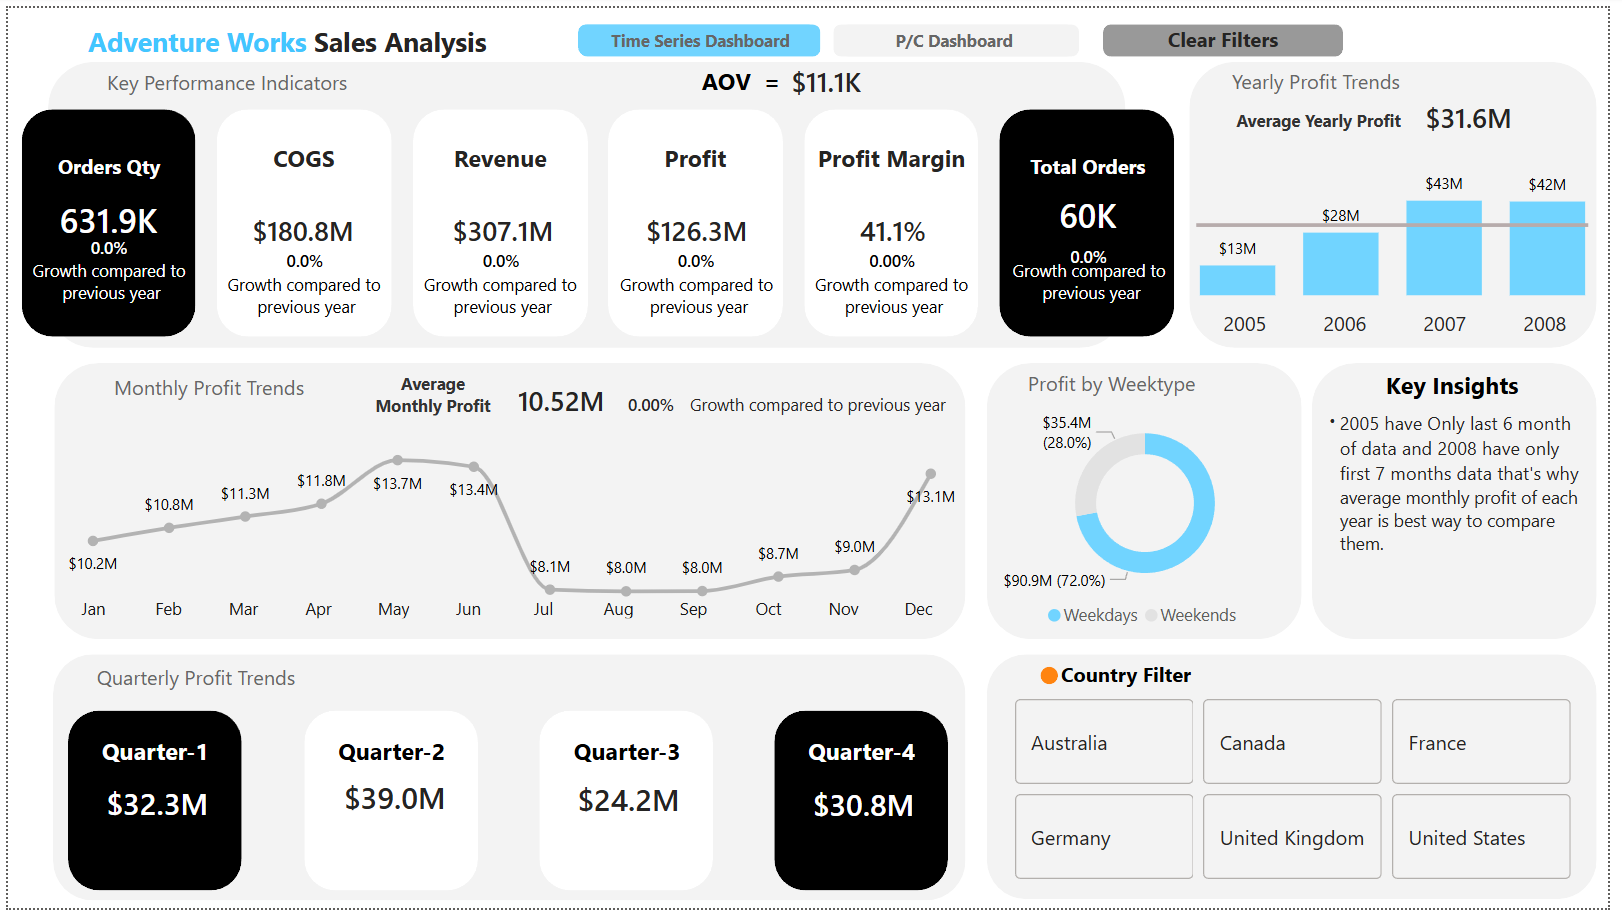

Layout of this report page (visuals, bound fields, positions):
{"tool":"powerbi","page":{"name":"Time Series Dashboard","canvas":[1280,720],"ordinal":0},"visuals":[{"type":"shape","box":[783.3,516.7,487.8,196.7],"z":0},{"type":"shape","box":[31.9,43.1,861.7,229.2],"z":1000},{"type":"shape","box":[10.6,81,139.9,182],"z":2000},{"type":"shape","box":[36,517,730,197],"z":3000},{"type":"shape","box":[36.7,284.4,728.9,221],"z":4000},{"type":"shape","box":[48,562,139,144],"z":5000},{"type":"shape","box":[236.7,562,139,144],"z":6000},{"type":"shape","box":[425.3,562,139,144],"z":7000},{"type":"shape","box":[613,562,139,144],"z":8000},{"type":"shape","box":[455.6,13.3,191,25],"z":9000},{"type":"textbox","box":[47.8,576.7,138.9,38.9],"z":10000},{"type":"textbox","box":[236.7,576.7,138.9,48.9],"z":11000},{"type":"textbox","box":[425.6,576.7,138.9,48.9],"z":12000},{"type":"textbox","box":[613.3,576.7,138.9,38.9],"z":13000},{"type":"textbox","box":[455.6,8.9,191.1,36.7],"z":14000},{"type":"cardVisual","fields":{"Data":["All Measures.Quarter 1 Profit"]},"box":[41.7,605.6,154,57.8],"z":15000},{"type":"cardVisual","fields":{"Data":["All Measures.Quarter 2 Profit"]},"box":[232.2,601,154,57.8],"z":16000},{"type":"cardVisual","fields":{"Data":["All Measures.Quarter 3 Profit"]},"box":[419.2,601.9,154,57.8],"z":17000},{"type":"cardVisual","fields":{"Data":["All Measures.Quarter 4 Profit"]},"box":[606.7,606.6,154,57.8],"z":18000},{"type":"shape","box":[1043.3,284,227.8,221.1],"z":19000},{"type":"shape","box":[945,43,326,229],"z":20000},{"type":"shape","box":[783,284,252,221],"z":21000},{"type":"shape","box":[166.8,81,139.9,182],"z":22000},{"type":"shape","box":[324.2,81,139.9,182],"z":23000},{"type":"shape","box":[480.4,81,139.9,182],"z":24000},{"type":"shape","box":[636.6,81,139.9,182],"z":25000},{"type":"shape","box":[792.8,81,139.9,182],"z":26000},{"type":"cardVisual","fields":{"Data":["All Measures.Total Orders"]},"box":[6,89,148,158],"z":27000},{"type":"textbox","box":[10.5,110,139,34],"z":28000},{"type":"textbox","box":[794,110,139,34],"z":29000},{"type":"textbox","box":[68,287,185,32],"z":30000},{"type":"textbox","box":[167,102,139,42],"z":31000},{"type":"textbox","box":[324,102,139,42],"z":32000},{"type":"textbox","box":[283,286,113,45],"z":33000},{"type":"textbox","box":[480,102,139,42],"z":34000},{"type":"cardVisual","fields":{"Data":["All Measures.Average Monthly Profit"]},"box":[368.6,279.1,146.5,66.3],"z":35000},{"type":"textbox","box":[637,102,139,42],"z":36000},{"type":"cardVisual","fields":{"Data":["All Measures.Profit"]},"box":[479,107,143,138],"z":37000},{"type":"cardVisual","fields":{"Data":["All Measures.Profit%"]},"box":[636,107,143,138],"z":38000},{"type":"cardVisual","fields":{"Data":["All Measures.Transactions"]},"box":[794,81,139,166],"z":39000},{"type":"clusteredColumnChart","fields":{"Y":["All Measures.Profit"],"Category":["DimDate.Year"]},"box":[945.4,115.1,323.3,120.9],"z":40000},{"type":"textbox","box":[964,42,164,34],"z":41000},{"type":"cardVisual","fields":{"Data":["All Measures.Profit average per Year"]},"box":[1069,43,198,86],"z":42000},{"type":"textbox","box":[956,76,184,34],"z":43000},{"type":"textbox","box":[66,43,218,34],"z":44000},{"type":"shape","box":[666,13.3,191.1,25.6],"z":45000},{"type":"textbox","box":[678.8,8.9,165.6,36.7],"z":46000},{"type":"textbox","box":[57,519,186,32],"z":47000},{"type":"donutChart","fields":{"Y":["All Measures.Profit"],"Category":["DimDate.Day Types"]},"box":[783,317,252,188],"z":48000},{"type":"textbox","box":[54,7,338,43],"z":49000},{"type":"textbox","box":[1083.3,284.4,143.3,35.6],"z":50000},{"type":"textbox","box":[812.2,516.7,163.3,34.4],"z":51000},{"type":"shape","box":[876.4,13.3,191.1,25.6],"z":52000},{"type":"shape","box":[825.6,526.7,14.4,14.4],"z":53000},{"type":"textbox","box":[888.9,8.9,165.6,36.7],"z":54000},{"type":"actionButton","box":[876.7,13.3,191.1,25.6],"z":55000},{"type":"textbox","box":[1042.2,316.7,226.7,188.9],"z":56000},{"type":"advancedSlicerVisual","fields":{"Values":["DimGeography.Country"]},"box":[800,547.7,454.7,155.8],"z":57000},{"type":"advancedSlicerVisual","fields":{"Values":["DimDate.Year"]},"box":[947.8,222.2,323.3,57.8],"z":58000},{"type":"pageNavigator","box":[456.7,13.3,397.8,25.6],"z":59000},{"type":"cardVisual","fields":{"Data":["All Measures.COGS"]},"box":[154,107,163,139],"z":60000},{"type":"cardVisual","fields":{"Data":["All Measures.Revenue"]},"box":[324,107,143,138],"z":61000},{"type":"cardVisual","fields":{"Data":["All Measures.AOV"]},"box":[573.3,15.1,161.6,83.7],"z":62000},{"type":"textbox","box":[516.3,40.7,139.5,48.8],"z":63000},{"type":"cardVisual","fields":{"Data":["All Measures.AMP Growth rate"]},"box":[455.8,288.4,116.3,54.7],"z":64000},{"type":"advancedSlicerVisual","fields":{"Values":["DimDate.Short Month"]},"box":[37.2,453.5,730.2,52.3],"z":65000},{"type":"textbox","box":[790,284,185,32],"z":66000},{"type":"textbox","box":[539.5,303.5,215.1,48.8],"z":67000},{"type":"cardVisual","fields":{"Data":["All Measures.Orderqty Growth rate"]},"box":[11,158,139,64],"z":68000},{"type":"textbox","box":[0,196,161,52],"z":69000},{"type":"cardVisual","fields":{"Data":["All Measures.Transactions Growth rate"]},"box":[794,144,140,107],"z":70000},{"type":"textbox","box":[784,196,161,52],"z":71000},{"type":"cardVisual","fields":{"Data":["All Measures.COGS Growth rate"]},"box":[167,169,140,64],"z":72000},{"type":"textbox","box":[156,207,161,52],"z":73000},{"type":"cardVisual","fields":{"Data":["All Measures.Revenue Growth rate"]},"box":[324,169,140,64],"z":74000},{"type":"textbox","box":[313,207,161,52],"z":75000},{"type":"cardVisual","fields":{"Data":["All Measures.Profit Growth rate"]},"box":[480,169,140,64],"z":76000},{"type":"textbox","box":[470,207,161,52],"z":77000},{"type":"textbox","box":[626,207,161,52],"z":78000},{"type":"cardVisual","fields":{"Data":["All Measures.Profit% Growth rate"]},"box":[637,169,140,64],"z":79000},{"type":"lineChart","fields":{"Y":["All Measures.Profit"],"Category":["DimDate.Short Month"]},"box":[38,343,729,134],"z":80000}]}

Visuals, with their boxes in screenshot pixels (x1, y1, x2, y2), scaled from the page's 1280x720 canvas onto the 1622x913 screenshot:
shape: x1=993 y1=655 x2=1611 y2=905
shape: x1=40 y1=55 x2=1132 y2=345
shape: x1=13 y1=103 x2=191 y2=333
shape: x1=46 y1=656 x2=971 y2=905
shape: x1=47 y1=361 x2=970 y2=641
shape: x1=61 y1=713 x2=237 y2=895
shape: x1=300 y1=713 x2=476 y2=895
shape: x1=539 y1=713 x2=715 y2=895
shape: x1=777 y1=713 x2=953 y2=895
shape: x1=577 y1=17 x2=819 y2=49
textbox: x1=61 y1=731 x2=237 y2=781
textbox: x1=300 y1=731 x2=476 y2=793
textbox: x1=539 y1=731 x2=715 y2=793
textbox: x1=777 y1=731 x2=953 y2=781
textbox: x1=577 y1=11 x2=819 y2=58
cardVisual - All Measures.Quarter 1 Profit: x1=53 y1=768 x2=248 y2=841
cardVisual - All Measures.Quarter 2 Profit: x1=294 y1=762 x2=489 y2=835
cardVisual - All Measures.Quarter 3 Profit: x1=531 y1=763 x2=726 y2=837
cardVisual - All Measures.Quarter 4 Profit: x1=769 y1=769 x2=964 y2=842
shape: x1=1322 y1=360 x2=1611 y2=640
shape: x1=1197 y1=55 x2=1611 y2=345
shape: x1=992 y1=360 x2=1312 y2=640
shape: x1=211 y1=103 x2=389 y2=333
shape: x1=411 y1=103 x2=588 y2=333
shape: x1=609 y1=103 x2=786 y2=333
shape: x1=807 y1=103 x2=984 y2=333
shape: x1=1005 y1=103 x2=1182 y2=333
cardVisual - All Measures.Total Orders: x1=8 y1=113 x2=195 y2=313
textbox: x1=13 y1=139 x2=189 y2=183
textbox: x1=1006 y1=139 x2=1182 y2=183
textbox: x1=86 y1=364 x2=321 y2=405
textbox: x1=212 y1=129 x2=388 y2=183
textbox: x1=411 y1=129 x2=587 y2=183
textbox: x1=359 y1=363 x2=502 y2=420
textbox: x1=608 y1=129 x2=784 y2=183
cardVisual - All Measures.Average Monthly Profit: x1=467 y1=354 x2=653 y2=438
textbox: x1=807 y1=129 x2=983 y2=183
cardVisual - All Measures.Profit: x1=607 y1=136 x2=788 y2=311
cardVisual - All Measures.Profit%: x1=806 y1=136 x2=987 y2=311
cardVisual - All Measures.Transactions: x1=1006 y1=103 x2=1182 y2=313
clusteredColumnChart - All Measures.Profit x DimDate.Year: x1=1198 y1=146 x2=1608 y2=299
textbox: x1=1222 y1=53 x2=1429 y2=96
cardVisual - All Measures.Profit average per Year: x1=1355 y1=55 x2=1606 y2=164
textbox: x1=1211 y1=96 x2=1445 y2=139
textbox: x1=84 y1=55 x2=360 y2=98
shape: x1=844 y1=17 x2=1086 y2=49
textbox: x1=860 y1=11 x2=1070 y2=58
textbox: x1=72 y1=658 x2=308 y2=699
donutChart - All Measures.Profit x DimDate.Day Types: x1=992 y1=402 x2=1312 y2=640
textbox: x1=68 y1=9 x2=497 y2=63
textbox: x1=1373 y1=361 x2=1554 y2=406
textbox: x1=1029 y1=655 x2=1236 y2=699
shape: x1=1111 y1=17 x2=1353 y2=49
shape: x1=1046 y1=668 x2=1064 y2=686
textbox: x1=1126 y1=11 x2=1336 y2=58
actionButton: x1=1111 y1=17 x2=1353 y2=49
textbox: x1=1321 y1=402 x2=1608 y2=641
advancedSlicerVisual - DimGeography.Country: x1=1014 y1=695 x2=1590 y2=892
advancedSlicerVisual - DimDate.Year: x1=1201 y1=282 x2=1611 y2=355
pageNavigator: x1=579 y1=17 x2=1083 y2=49
cardVisual - All Measures.COGS: x1=195 y1=136 x2=402 y2=312
cardVisual - All Measures.Revenue: x1=411 y1=136 x2=592 y2=311
cardVisual - All Measures.AOV: x1=726 y1=19 x2=931 y2=125
textbox: x1=654 y1=52 x2=831 y2=113
cardVisual - All Measures.AMP Growth rate: x1=578 y1=366 x2=725 y2=435
advancedSlicerVisual - DimDate.Short Month: x1=47 y1=575 x2=972 y2=641
textbox: x1=1001 y1=360 x2=1236 y2=401
textbox: x1=684 y1=385 x2=956 y2=447
cardVisual - All Measures.Orderqty Growth rate: x1=14 y1=200 x2=190 y2=282
textbox: x1=0 y1=249 x2=204 y2=314
cardVisual - All Measures.Transactions Growth rate: x1=1006 y1=183 x2=1184 y2=318
textbox: x1=993 y1=249 x2=1197 y2=314
cardVisual - All Measures.COGS Growth rate: x1=212 y1=214 x2=389 y2=295
textbox: x1=198 y1=262 x2=402 y2=328
cardVisual - All Measures.Revenue Growth rate: x1=411 y1=214 x2=588 y2=295
textbox: x1=397 y1=262 x2=601 y2=328
cardVisual - All Measures.Profit Growth rate: x1=608 y1=214 x2=786 y2=295
textbox: x1=596 y1=262 x2=800 y2=328
textbox: x1=793 y1=262 x2=997 y2=328
cardVisual - All Measures.Profit% Growth rate: x1=807 y1=214 x2=985 y2=295
lineChart - All Measures.Profit x DimDate.Short Month: x1=48 y1=435 x2=972 y2=605
